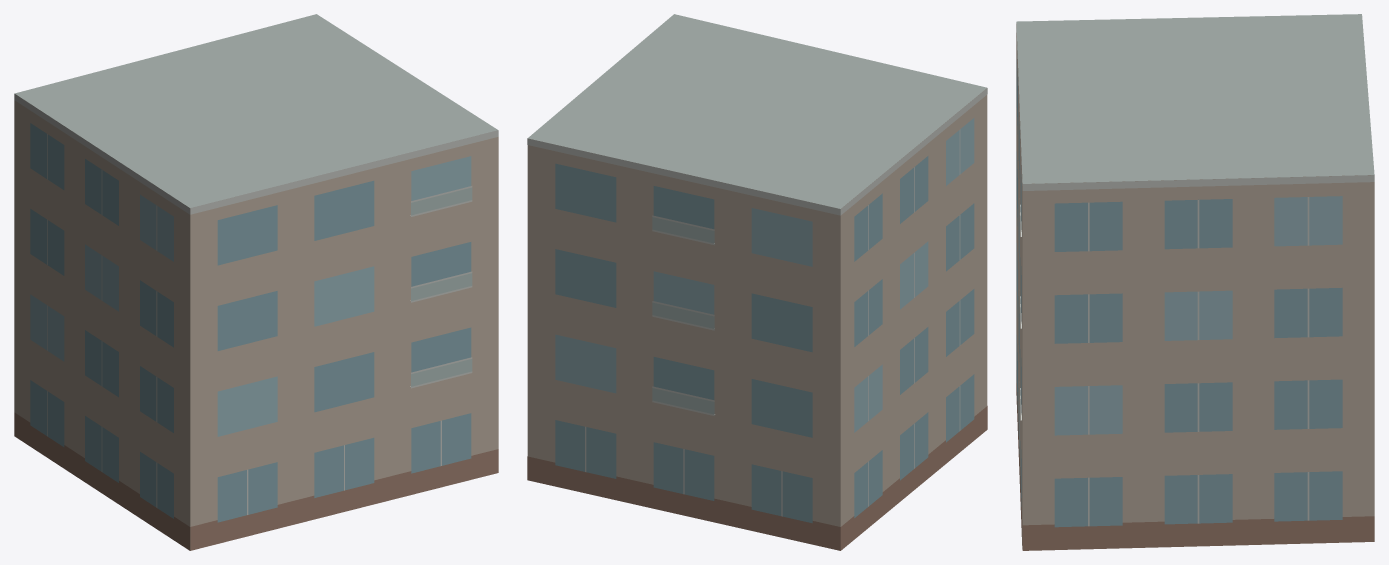
Rendered from survey-upis-32910804.glb.
3 views of the same model, side by side, from view 1: azimuth 30°, elevation 25°; view 2: azimuth 150°, elevation 25°; view 3: azimuth 270°, elevation 25° (orthographic). The views are drawn at different scales.
Parts seen in each view (by area): view 1: survey-upis-32910804.tmp; view 2: survey-upis-32910804.tmp; view 3: survey-upis-32910804.tmp.
Boxes of the visible parts, <box> form: survey-upis-32910804.tmp: <box>14,14,498,550</box>; survey-upis-32910804.tmp: <box>527,14,987,550</box>; survey-upis-32910804.tmp: <box>1016,14,1374,550</box>.
Bounding box in the file's own units: 12.53 × 12.6 × 11.16.
